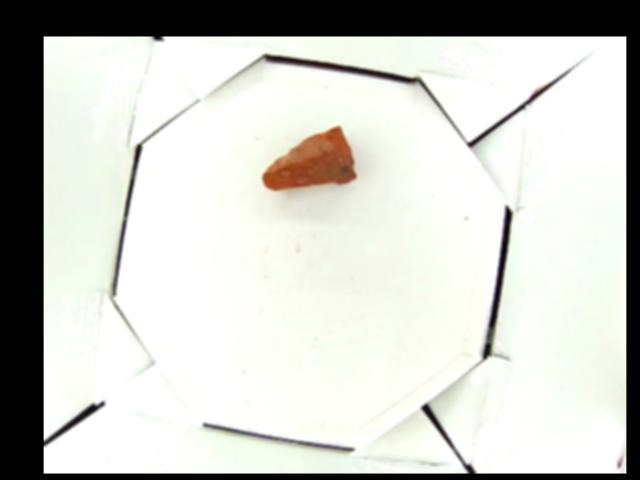Brisk: (261, 124, 356, 192)
